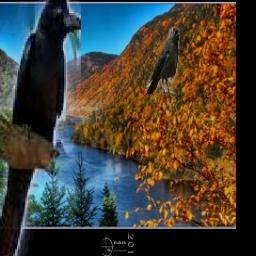Crow: (0, 0, 81, 256), (146, 27, 181, 94)
